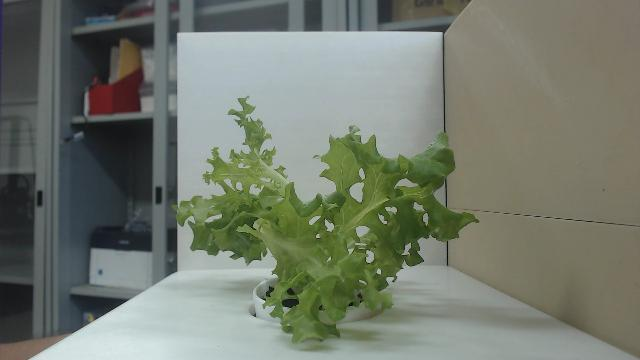Harvest Stage: (174, 96, 481, 344)
